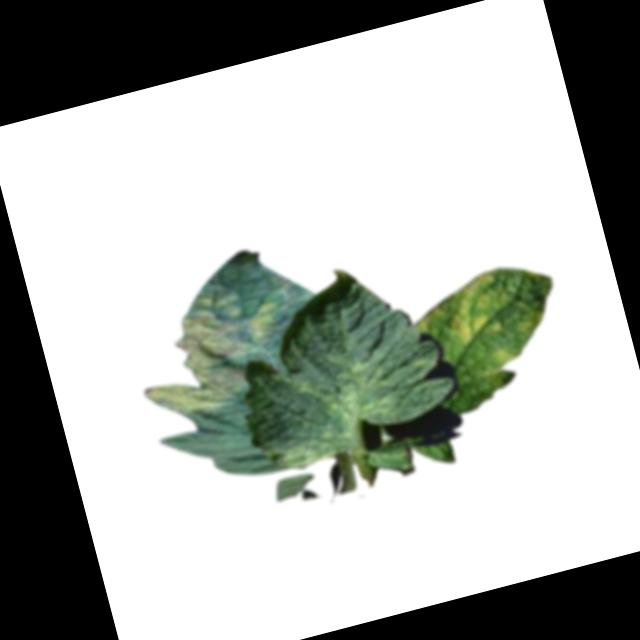Leaf_Mold: (124, 278, 301, 426), (412, 261, 553, 382)
